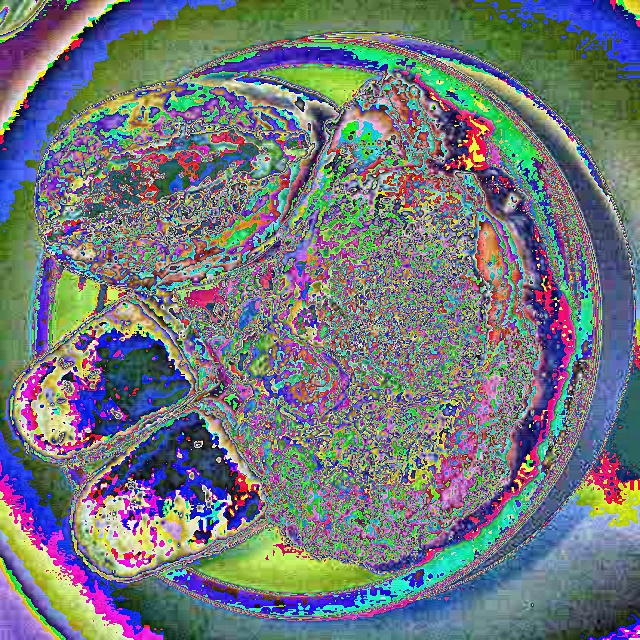background: (9, 42, 576, 581)
